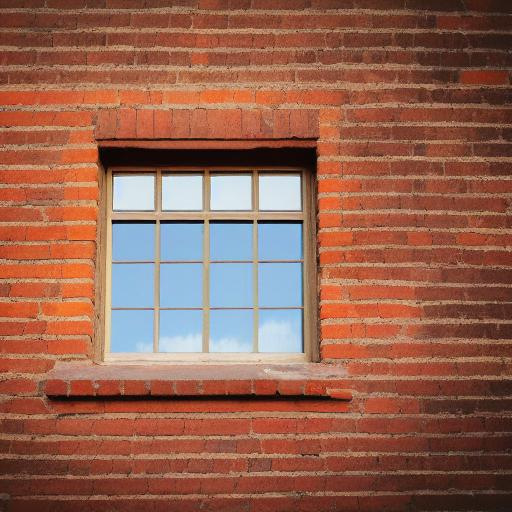Window: (48, 107, 351, 403)
